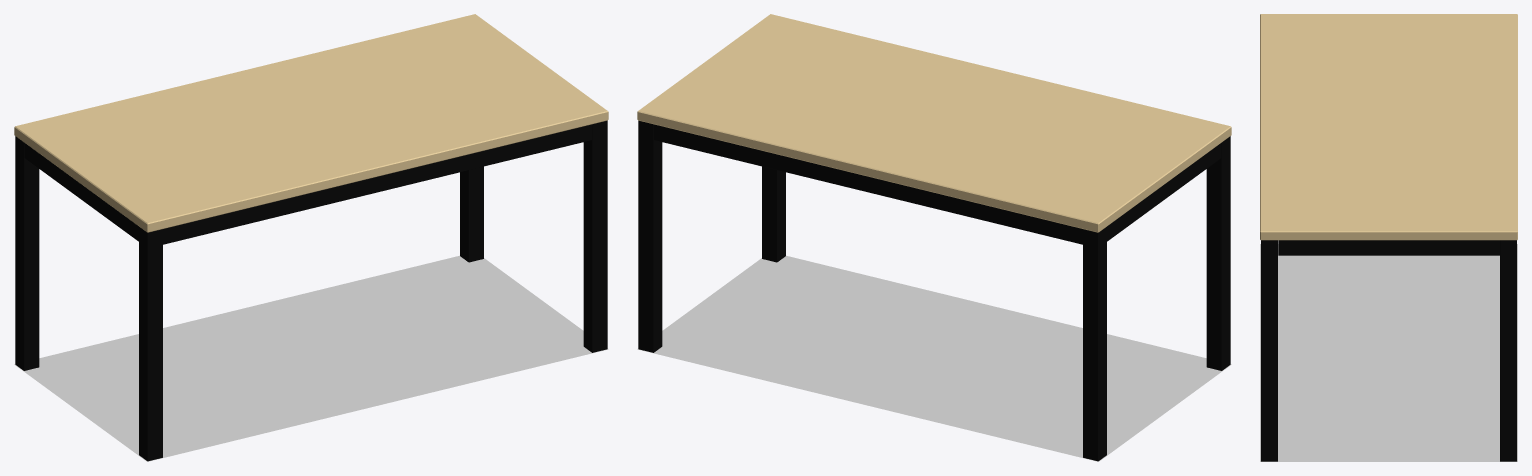
The picture shows the model from 3 angles, left to right: view 1: azimuth 30°, elevation 25°; view 2: azimuth 150°, elevation 25°; view 3: azimuth 270°, elevation 25°; orthographic projection. The views are drawn at different scales.
Visible parts, largest first — view 1: stand1; view 2: stand1; view 3: stand1.
Boxes of the visible parts, box(x1,y1,x2,y2) form: stand1: box(14, 14, 608, 461); stand1: box(637, 14, 1231, 461); stand1: box(1260, 14, 1517, 461).
Size of the model in its own units: 15000 by 7400 by 7500.
